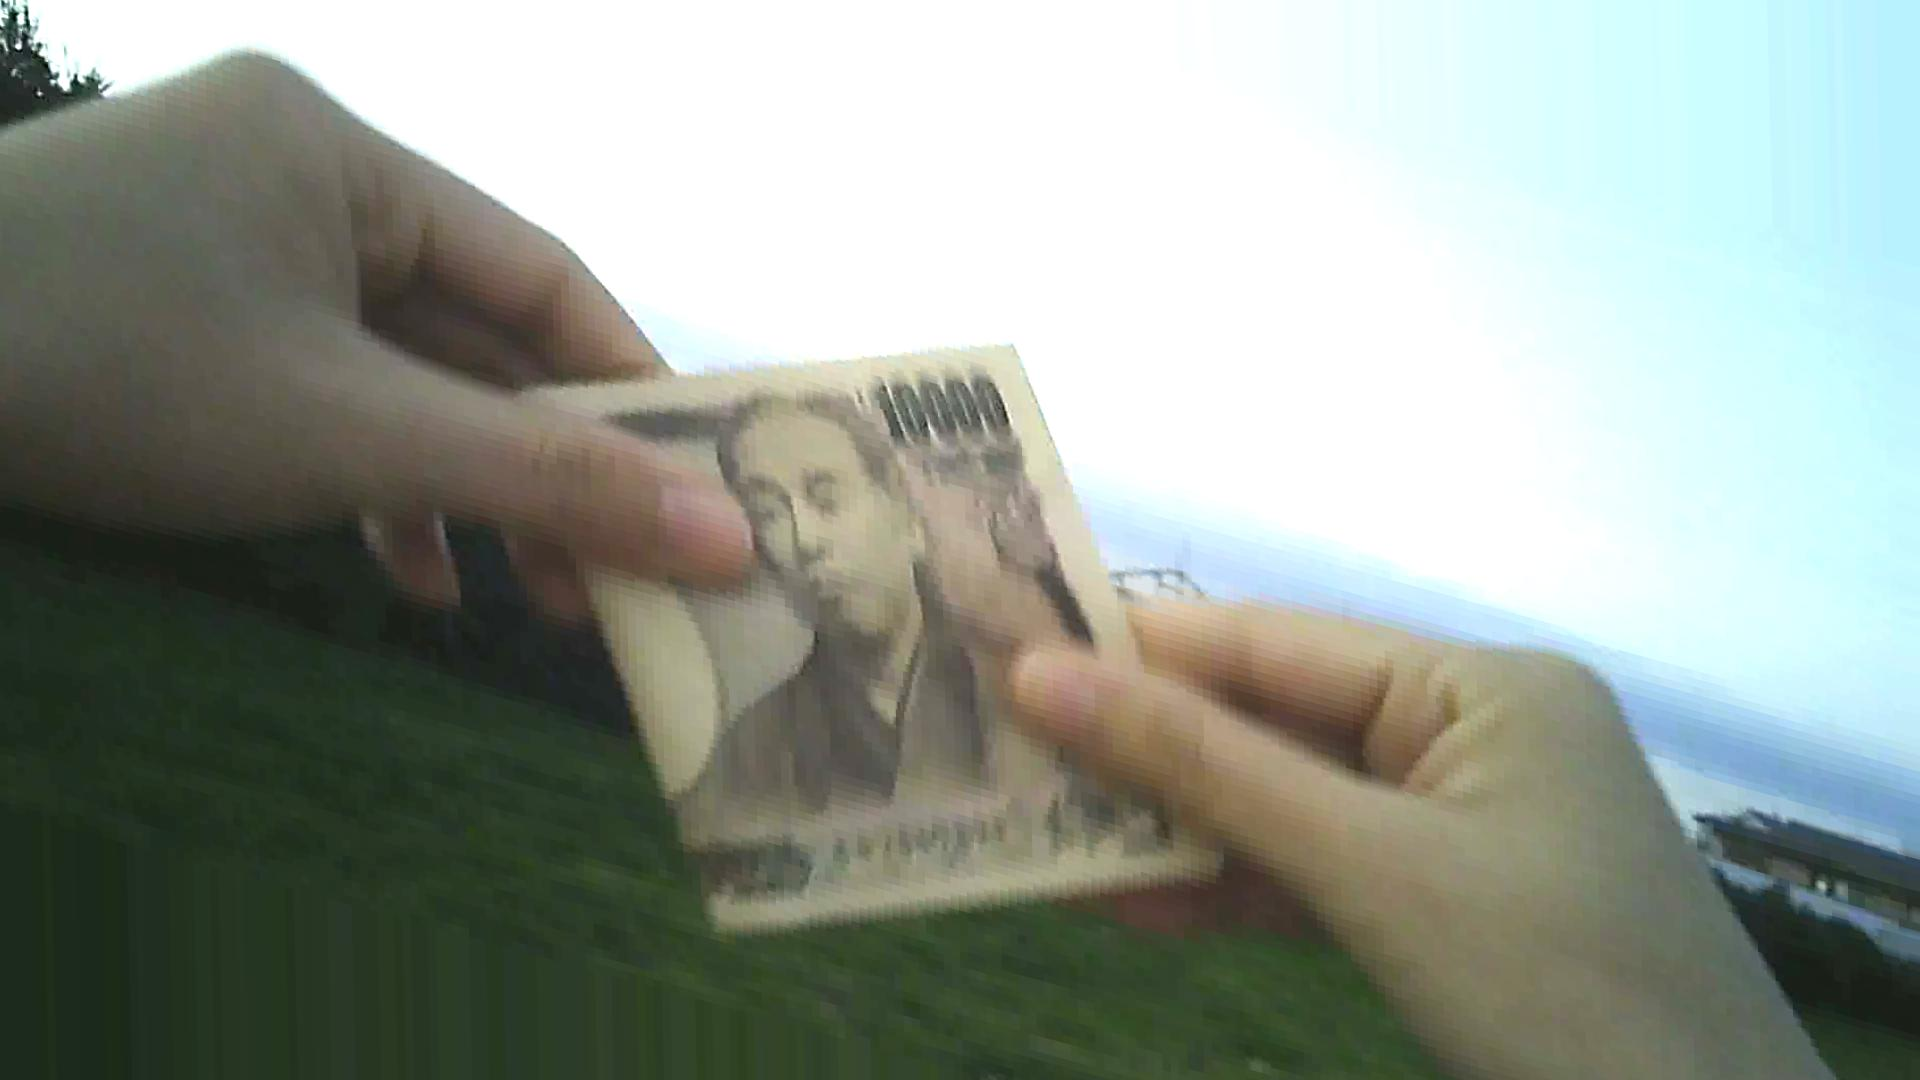10,000 Yen: (513, 294, 1279, 949)
